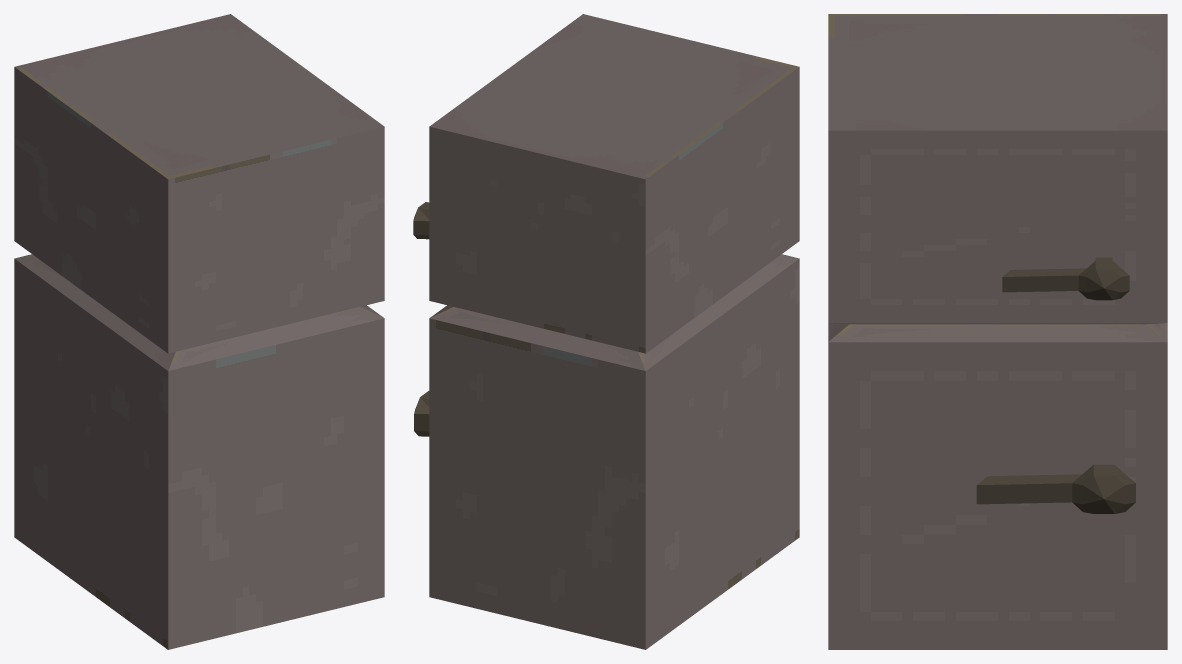
The model's file is fridge.glb.
3 views of the same model, side by side, from view 1: azimuth 30°, elevation 25°; view 2: azimuth 150°, elevation 25°; view 3: azimuth 270°, elevation 25° (orthographic). The views are drawn at different scales.
Visible parts, largest first — view 1: Mesh_0.001; view 2: Mesh_0.001; view 3: Mesh_0.001.
Boxes of the visible parts, x1,y1,x2,y2 form: Mesh_0.001: (14,14,384,649); Mesh_0.001: (413,14,799,649); Mesh_0.001: (828,14,1167,649).
Bounding box in the file's own units: 5.14 × 8.91 × 5.28.
Materials: 1 (1 with a texture image).
